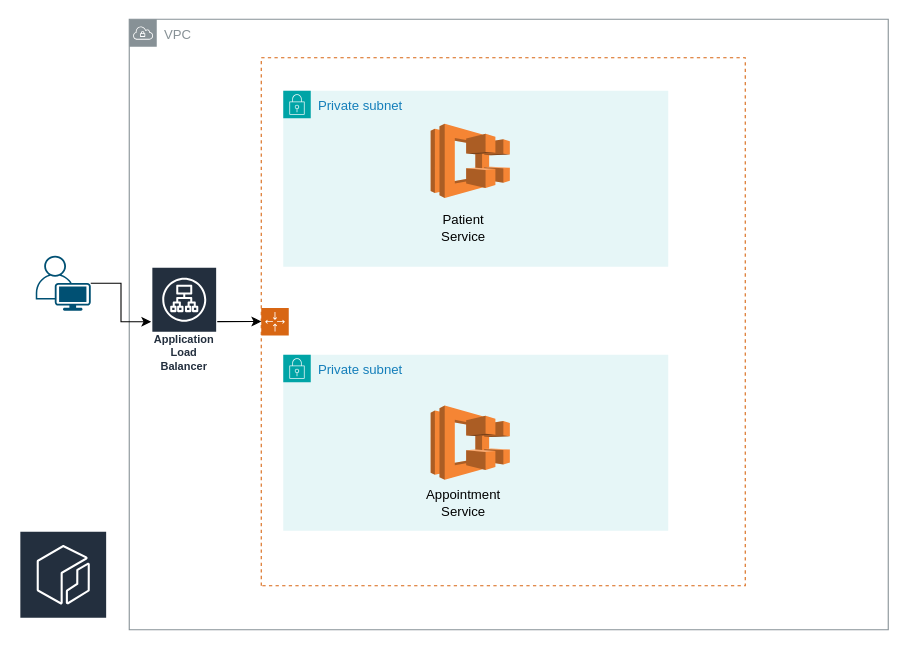
This 908x660 diagram has some shape labels left out. The shapes that lost their labels are listed below. From the top down, each one's box as (x1, y1, x2, y2) in pixels, then its label:
(260, 57, 745, 586): Auto Scaling group
(18, 530, 107, 641): Amazon ECR
